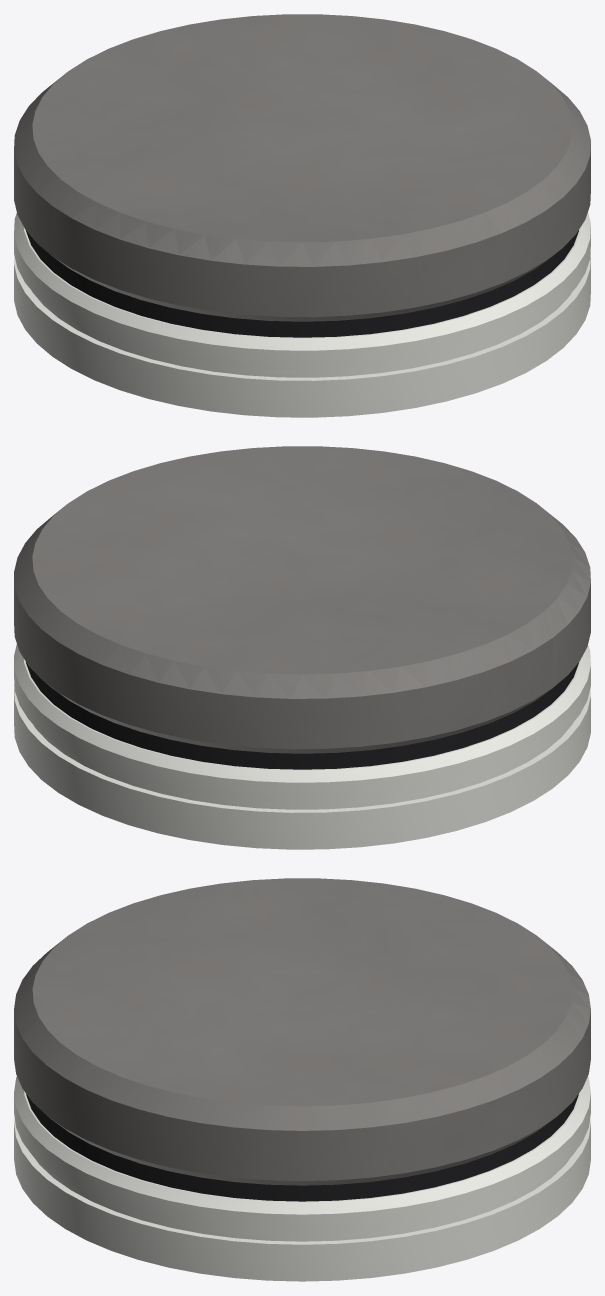
The model's file is ax_util_13_rotary_bearing_s.glb.
The picture shows the model from 3 angles, top to bottom: view 1: azimuth 30°, elevation 25°; view 2: azimuth 150°, elevation 25°; view 3: azimuth 270°, elevation 25°; orthographic projection.
Visible parts, largest first — view 1: rotor, stator, seal_ring; view 2: rotor, stator, seal_ring; view 3: rotor, stator, seal_ring.
Part boxes in pixels (bbox=[...]): rotor: bbox=[14, 14, 590, 321]; stator: bbox=[14, 212, 590, 417]; seal_ring: bbox=[26, 230, 578, 337]; rotor: bbox=[14, 446, 590, 753]; stator: bbox=[14, 644, 590, 849]; seal_ring: bbox=[26, 662, 578, 769]; rotor: bbox=[14, 878, 590, 1185]; stator: bbox=[14, 1076, 590, 1281]; seal_ring: bbox=[26, 1094, 578, 1201].
Bounding box in the file's own units: 0.625 × 0.2 × 0.625.
3 materials, 1 textured.
